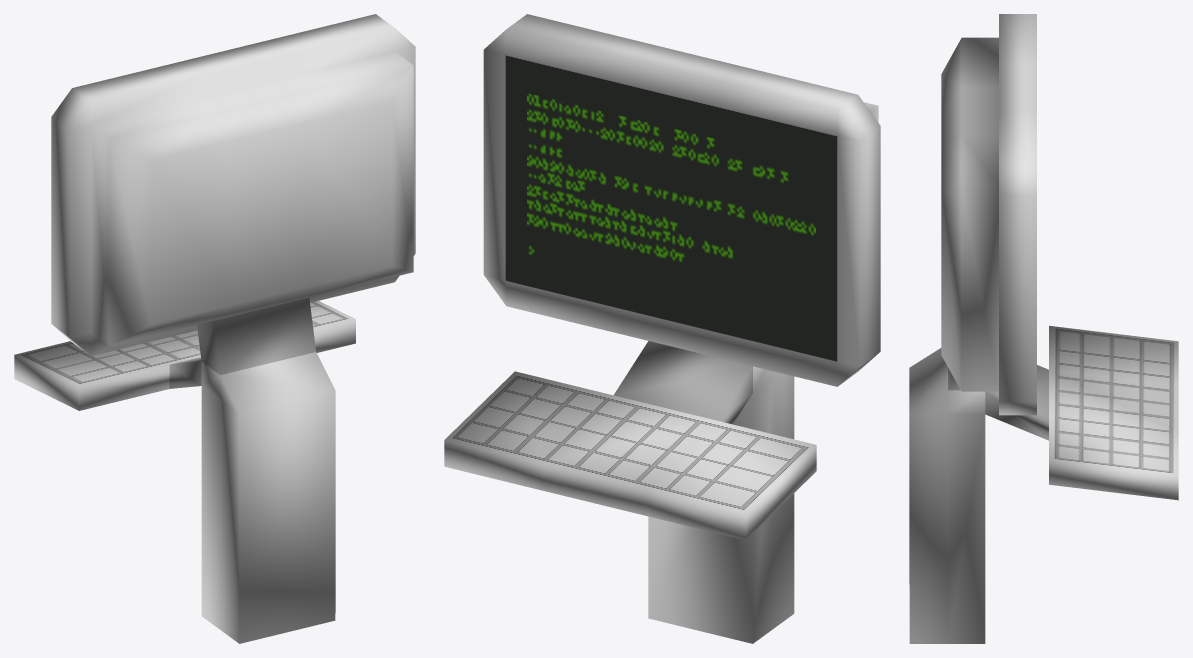
Rendered from Terminal.fbx.
3 renders of one model, left to right at view 1: azimuth 30°, elevation 25°; view 2: azimuth 150°, elevation 25°; view 3: azimuth 270°, elevation 25°, orthographic. The views are drawn at different scales.
Parts seen in each view (by area): view 1: Cube; view 2: Cube; view 3: Cube.
Boxes of the visible parts, <box> form: Cube: <box>14,14,415,643</box>; Cube: <box>444,14,880,643</box>; Cube: <box>909,14,1178,643</box>.
Size of the model in its own units: 7.11 by 10.51 by 4.81.
